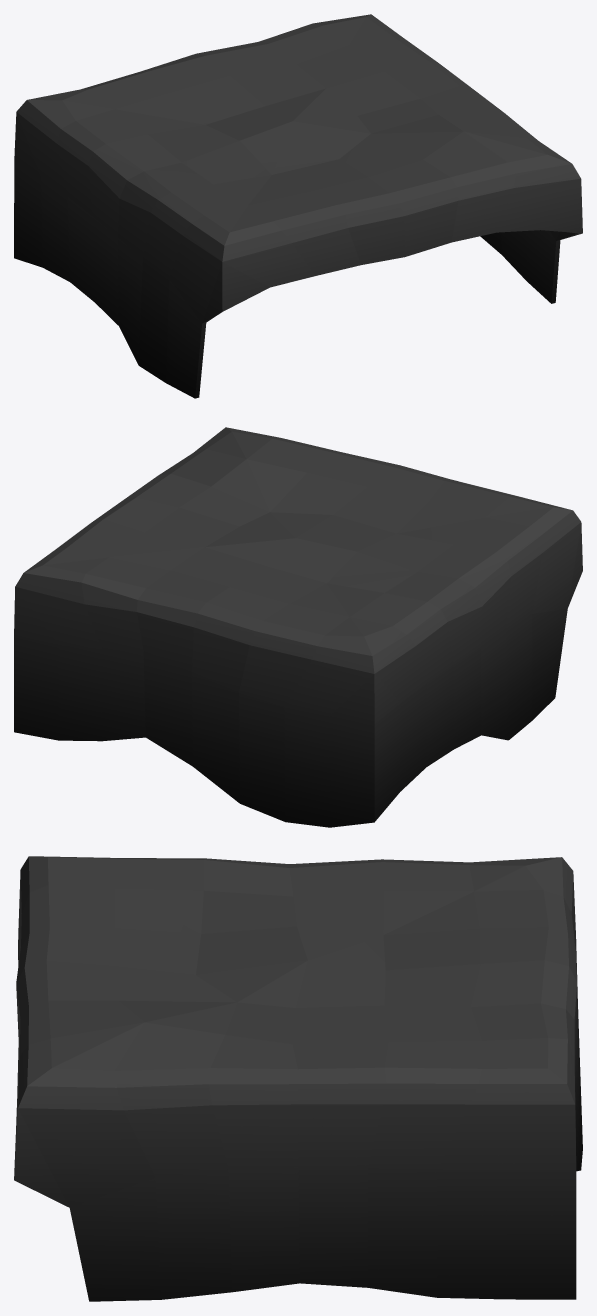
The model's file is SM_Fabric_Roof_Black.fbx.
The picture shows the model from 3 angles, top to bottom: view 1: azimuth 30°, elevation 25°; view 2: azimuth 150°, elevation 25°; view 3: azimuth 270°, elevation 25°; orthographic projection. The views are drawn at different scales.
Visible parts, largest first — view 1: Market_Fabric_Roof_Black_M2_Mash; view 2: Market_Fabric_Roof_Black_M2_Mash; view 3: Market_Fabric_Roof_Black_M2_Mash.
Boxes of the visible parts, x1,y1,x2,y2 form: Market_Fabric_Roof_Black_M2_Mash: (14,14,582,398); Market_Fabric_Roof_Black_M2_Mash: (14,427,582,827); Market_Fabric_Roof_Black_M2_Mash: (14,856,582,1301).
Bounding box in the file's own units: 3.53 × 1.77 × 3.53.
